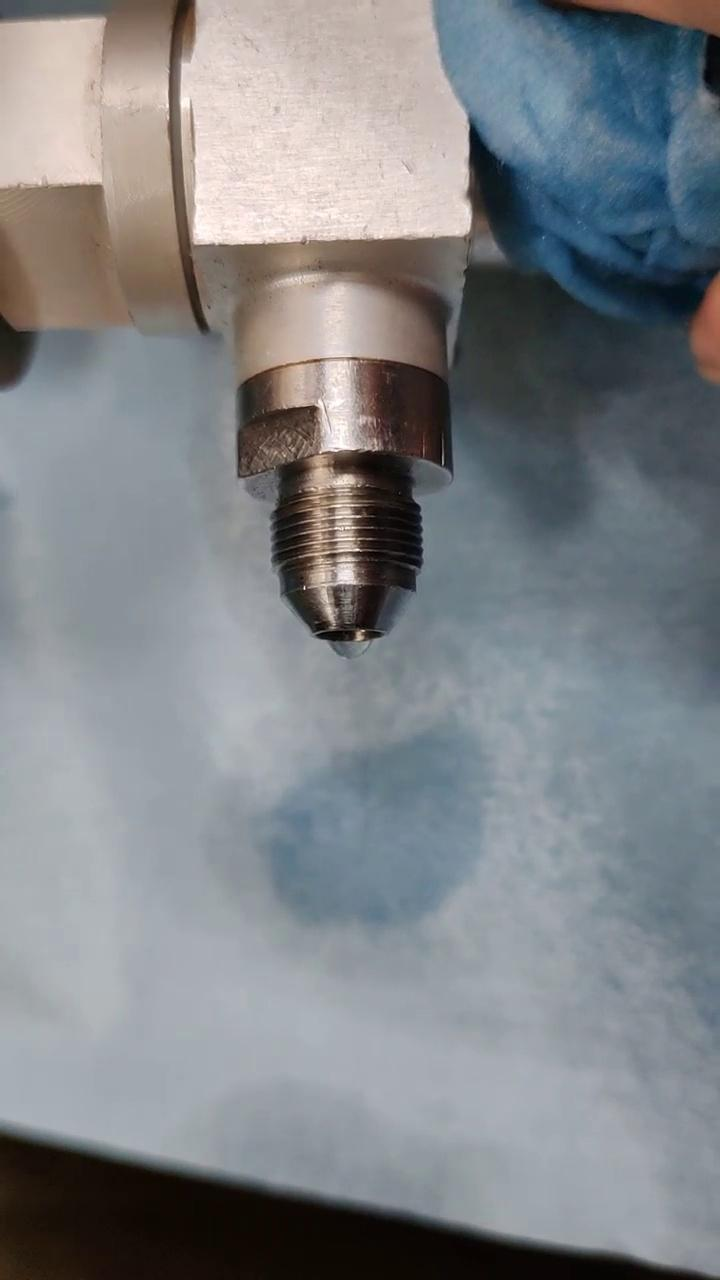water drop: (327, 631, 373, 656)
